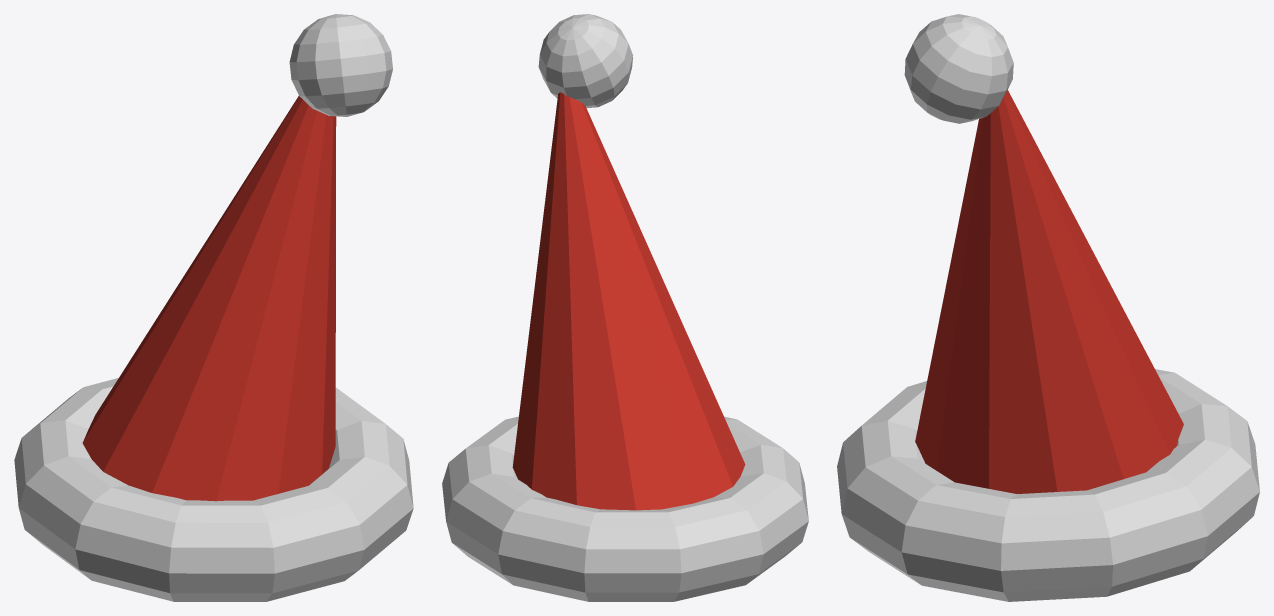
The model's file is santa.glb.
The picture shows the model from 3 angles, left to right: view 1: azimuth 30°, elevation 25°; view 2: azimuth 150°, elevation 25°; view 3: azimuth 270°, elevation 25°; orthographic projection. The views are drawn at different scales.
Visible parts, largest first — view 1: node_MeshObject-411611136-PolyPaper16; view 2: node_MeshObject-411611136-PolyPaper16; view 3: node_MeshObject-411611136-PolyPaper16.
Boxes of the visible parts, x1=… form: node_MeshObject-411611136-PolyPaper16: x1=14, y1=14, x2=413, y2=601; node_MeshObject-411611136-PolyPaper16: x1=442, y1=14, x2=808, y2=601; node_MeshObject-411611136-PolyPaper16: x1=837, y1=14, x2=1259, y2=601.
Size of the model in its own units: 0.1171 by 0.1705 by 0.117.
